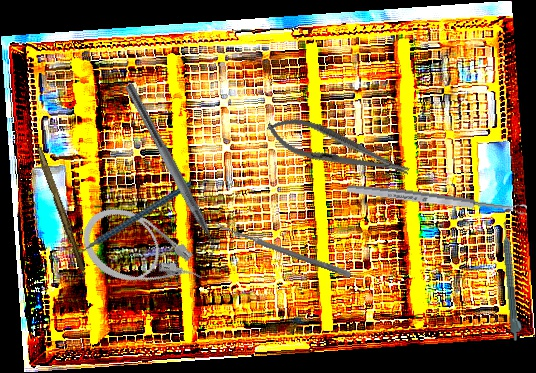Cannula: (70, 194, 214, 317)
Chopper: (112, 82, 228, 266), (56, 181, 204, 270)
Handpiece: (500, 221, 525, 342)
Needle Holder: (261, 109, 415, 190)
Scalpel Handle: (32, 146, 89, 273)
Surgical Spoon: (212, 221, 352, 278), (346, 182, 528, 217)
